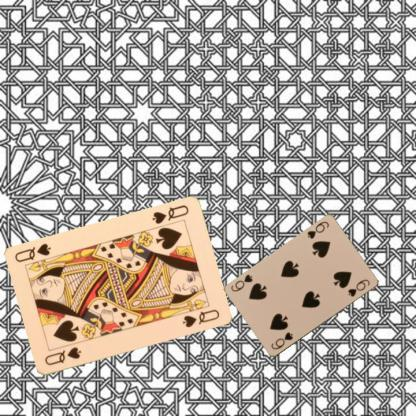6s: (268, 330, 294, 352), (304, 219, 330, 240)
Qs: (42, 344, 82, 367), (150, 203, 190, 226)
